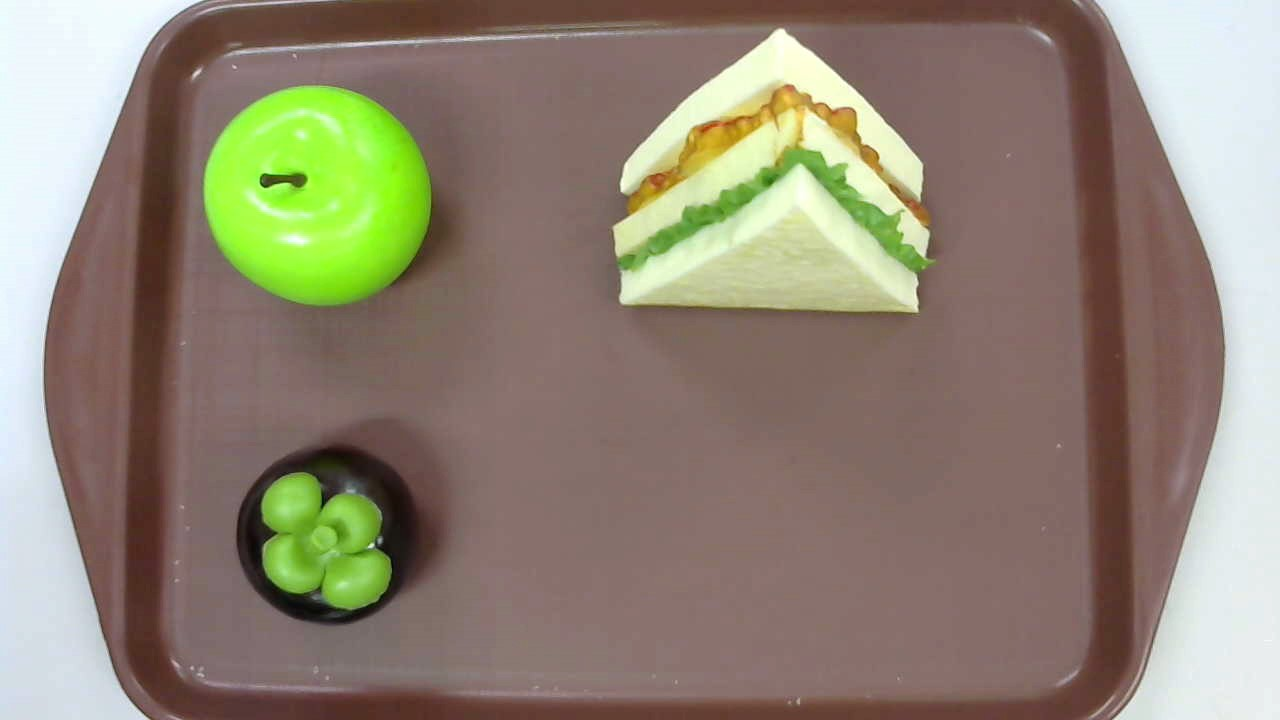green apple: (204, 86, 431, 309)
mangosteen: (236, 441, 423, 627)
sandwich: (611, 28, 935, 314)
